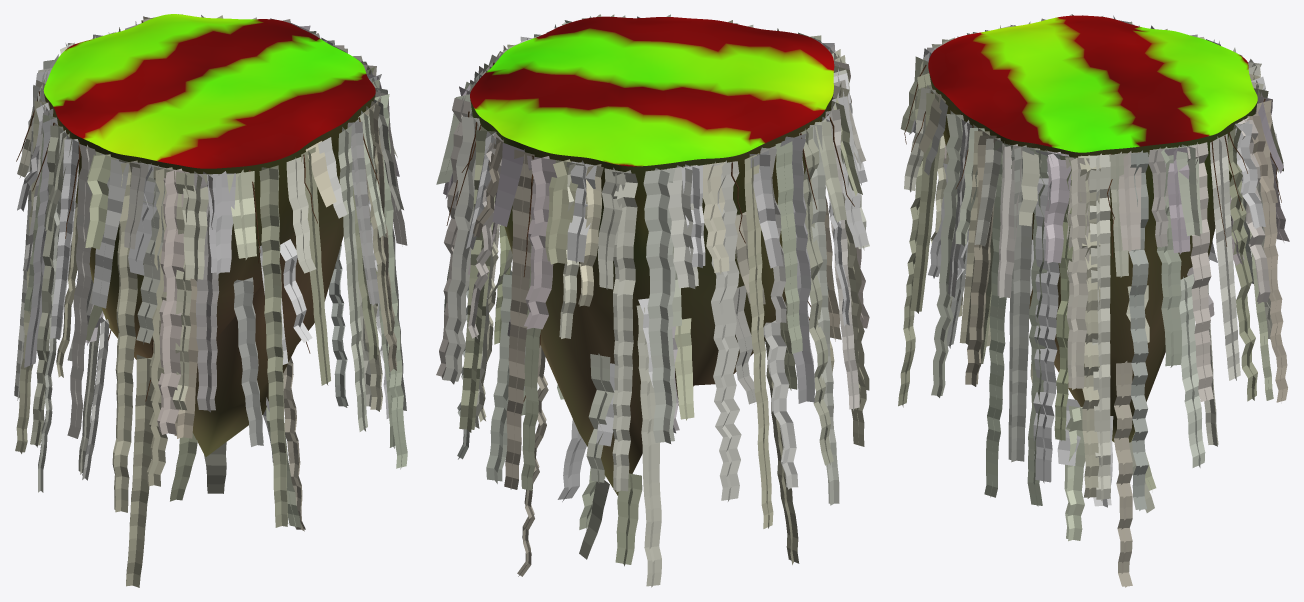
File: SM_H04_Floater07.fbx
3 renders of one model, left to right at view 1: azimuth 30°, elevation 25°; view 2: azimuth 150°, elevation 25°; view 3: azimuth 270°, elevation 25°, orthographic. The views are drawn at different scales.
Parts seen in each view (by area): view 1: SM_H04_Floater07_Ivy, SM_H04_Floater07; view 2: SM_H04_Floater07_Ivy, SM_H04_Floater07; view 3: SM_H04_Floater07_Ivy, SM_H04_Floater07.
Boxes of the visible parts, x1,y1,x2,y2 form: SM_H04_Floater07_Ivy: (14, 14, 407, 587); SM_H04_Floater07: (43, 14, 375, 456); SM_H04_Floater07_Ivy: (436, 14, 869, 587); SM_H04_Floater07: (470, 16, 834, 495); SM_H04_Floater07_Ivy: (898, 14, 1289, 587); SM_H04_Floater07: (928, 15, 1257, 442).
Size of the model in its own units: 28.79 by 38.89 by 29.98.
